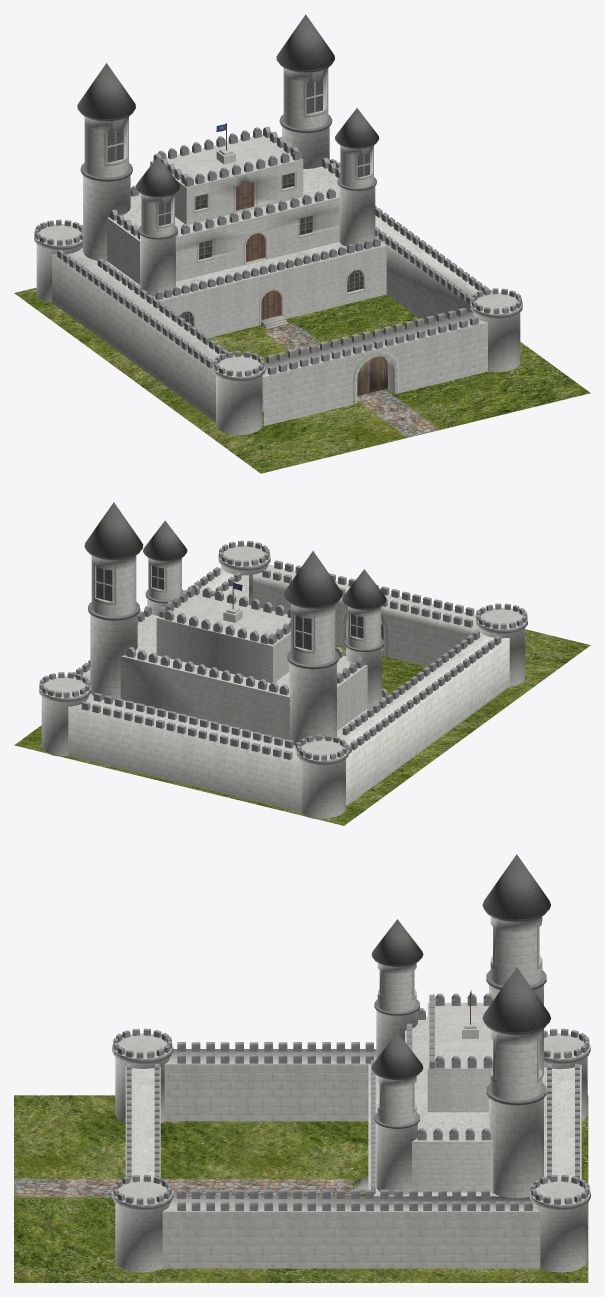
Rendered from castle.fbx.
3 renders of one model, top to bottom at view 1: azimuth 30°, elevation 25°; view 2: azimuth 150°, elevation 25°; view 3: azimuth 270°, elevation 25°, orthographic. The views are drawn at different scales.
Parts seen in each view (by area): view 1: Castle_Exterior, Castle_Interior, Towers_Doors_and_Windows, Ground_and_Fountain; view 2: Castle_Exterior, Towers_Doors_and_Windows, Castle_Interior, Ground_and_Fountain; view 3: Castle_Exterior, Ground_and_Fountain, Towers_Doors_and_Windows, Castle_Interior.
Boxes of the visible parts, box(x1,y1,x2,y2) form: Castle_Exterior: box(34, 159, 522, 434); Castle_Interior: box(81, 123, 386, 337); Towers_Doors_and_Windows: box(77, 14, 387, 395); Ground_and_Fountain: box(14, 287, 590, 473); Castle_Exterior: box(39, 540, 527, 818); Towers_Doors_and_Windows: box(84, 502, 386, 745); Castle_Interior: box(89, 581, 387, 746); Ground_and_Fountain: box(14, 629, 590, 825); Castle_Exterior: box(112, 1028, 590, 1272); Ground_and_Fountain: box(14, 1095, 588, 1282); Towers_Doors_and_Windows: box(354, 854, 550, 1198); Castle_Interior: box(368, 990, 544, 1196).
Size of the model in its own units: 58.11 by 75.6 by 40.26.
